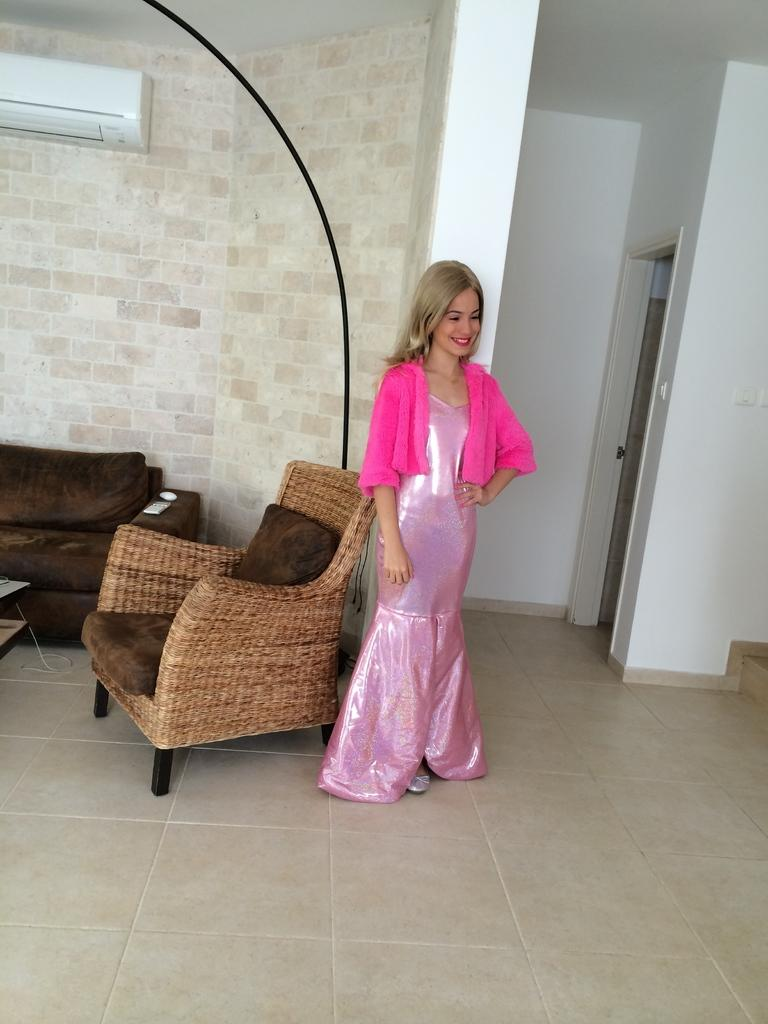Chair: (72, 463, 384, 790)
